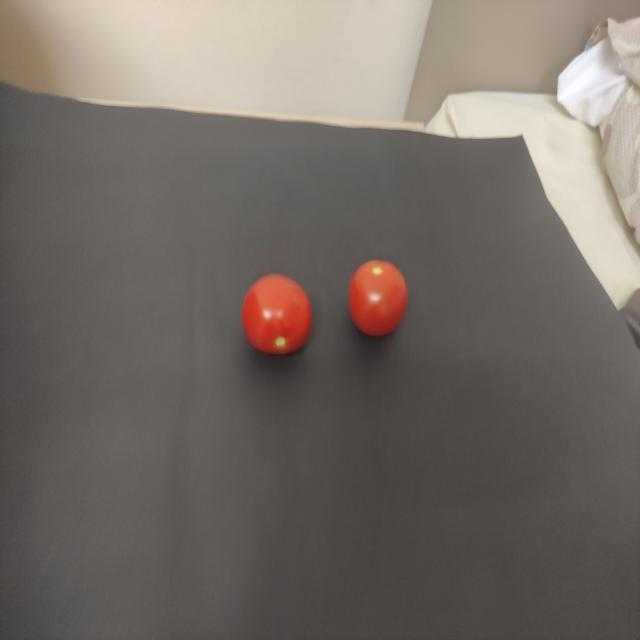kirmizi: (342, 212, 415, 359), (230, 262, 313, 371)
